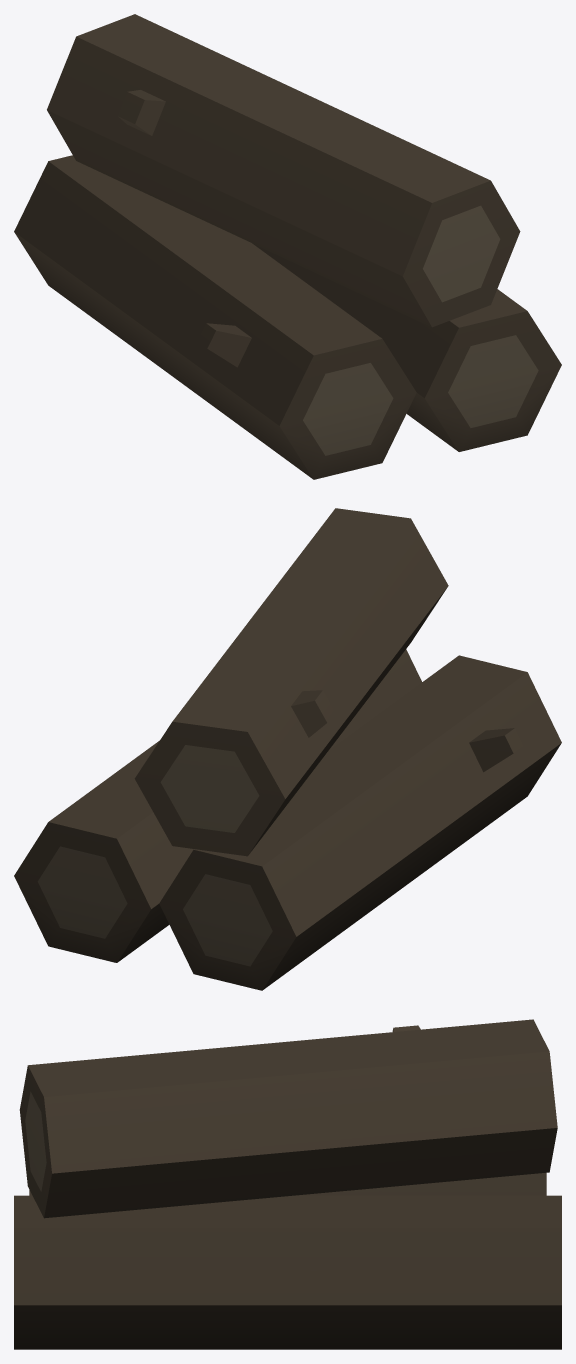
The model's file is totholz_stapel.glb.
3 renders of one model, top to bottom at view 1: azimuth 30°, elevation 25°; view 2: azimuth 150°, elevation 25°; view 3: azimuth 270°, elevation 25°, orthographic. The views are drawn at different scales.
Parts seen in each view (by area): view 1: totholz_stapel; view 2: totholz_stapel; view 3: totholz_stapel.
Part boxes in pixels (<box>): totholz_stapel: <box>14,14,561,479</box>; totholz_stapel: <box>14,508,561,990</box>; totholz_stapel: <box>14,1019,561,1349</box>.
Size of the model in its own units: 0.8582 by 0.7 by 1.43.
